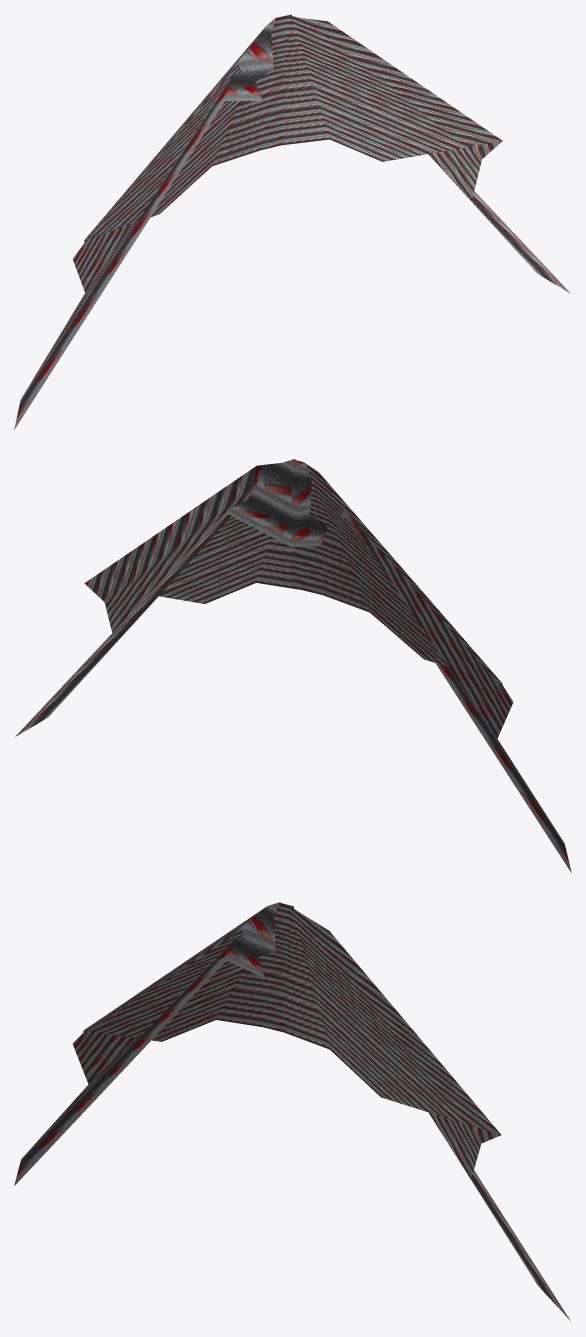
3 views of the same model, one above another, from view 1: azimuth 30°, elevation 25°; view 2: azimuth 150°, elevation 25°; view 3: azimuth 330°, elevation 25° (orthographic).
Visible parts, largest first — view 1: Origami_Model_57; view 2: Origami_Model_57; view 3: Origami_Model_57.
Part boxes in pixels (<box>): Origami_Model_57: <box>14,14,570,429</box>; Origami_Model_57: <box>15,459,571,873</box>; Origami_Model_57: <box>14,902,571,1322</box>.
Bounding box in the file's own units: 0.8 × 0.476 × 0.007.
Materials: 1 (1 with a texture image).
